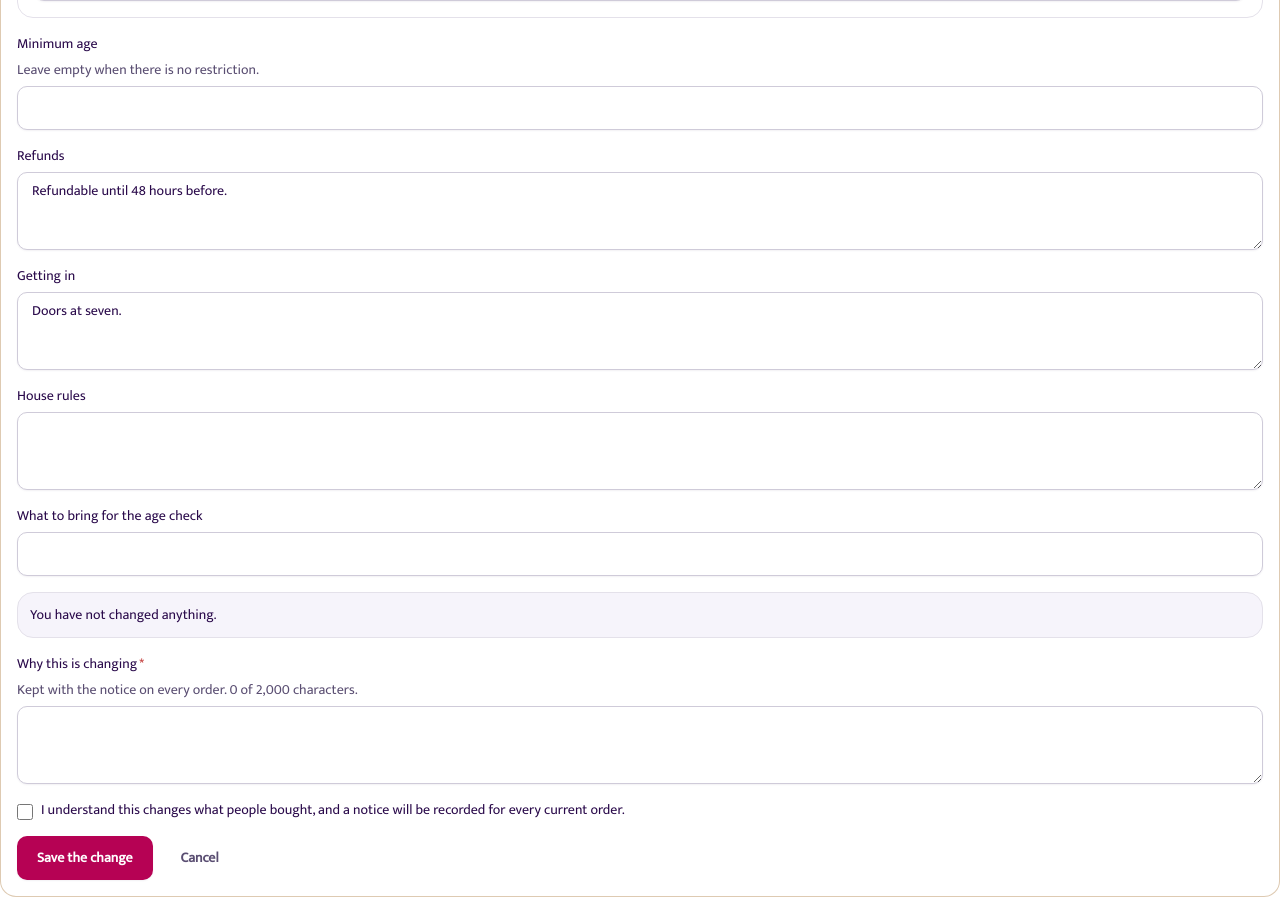
the panel › says there is nothing to save when nothing changed, and sends nothing
The width and height of the screenshot is (1280, 897).
(page scrolled)
Click the button "Save the change" at (85, 858), box left=17, top=836, right=152, bottom=880
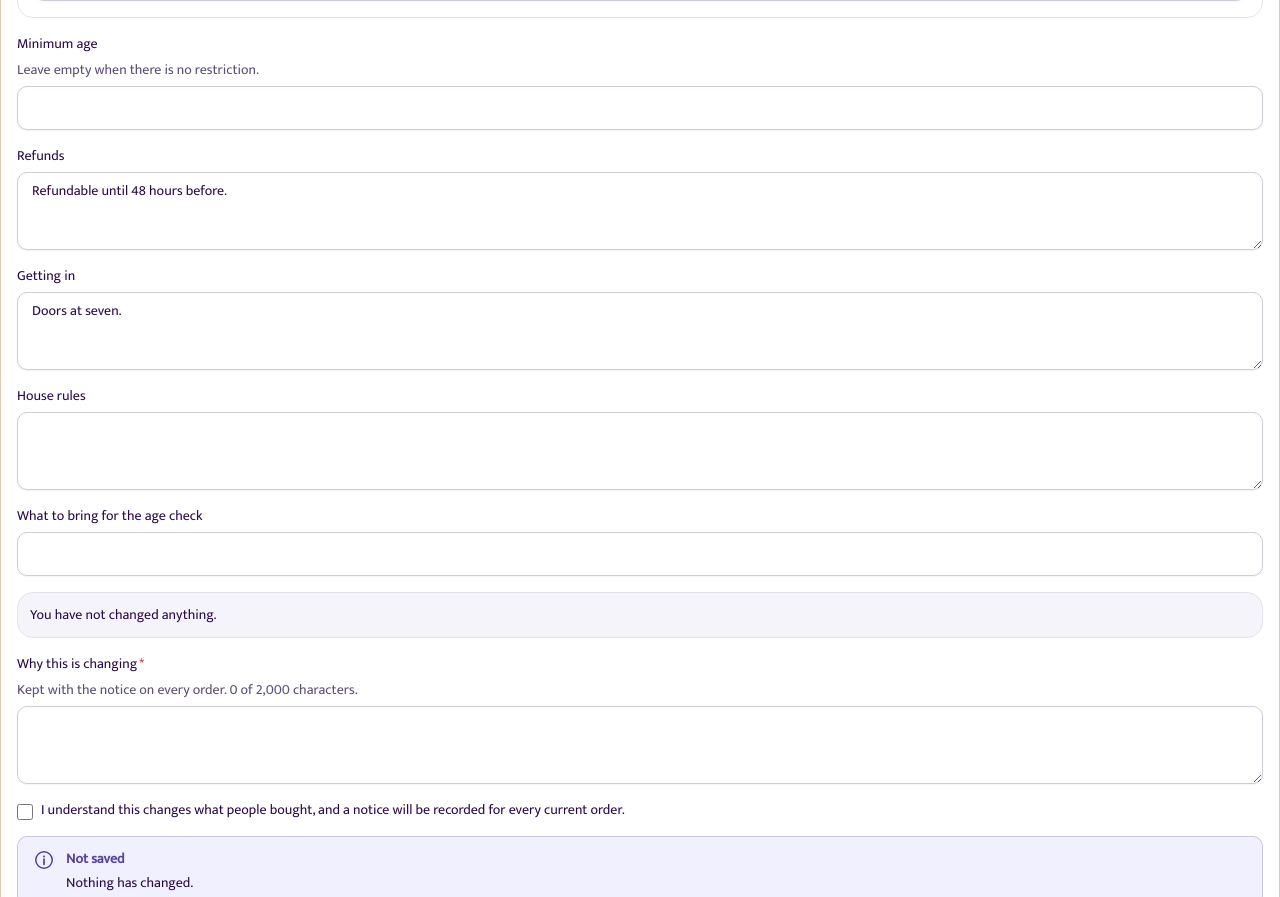
Now the text "Nothing has changed." is shown, box left=66, top=871, right=193, bottom=894
